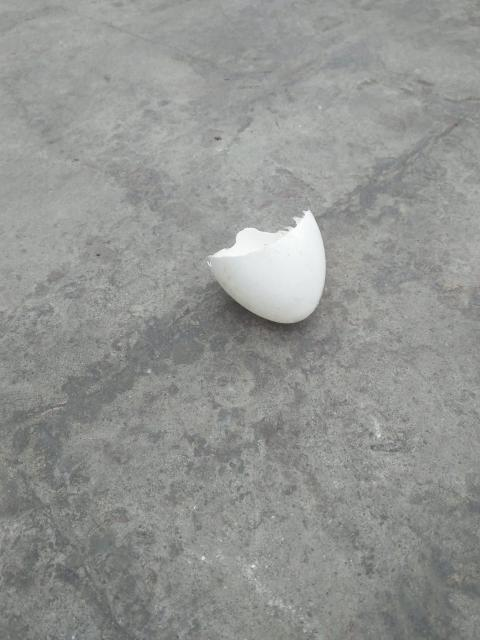Roto: (206, 208, 326, 324)
